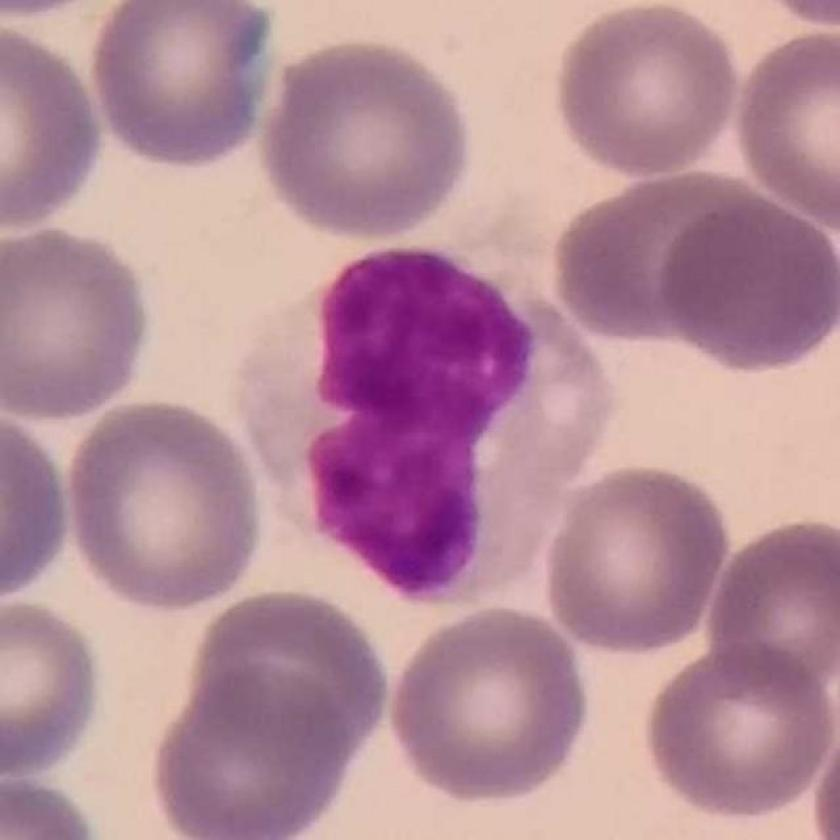monocyte: (224, 217, 628, 604)
